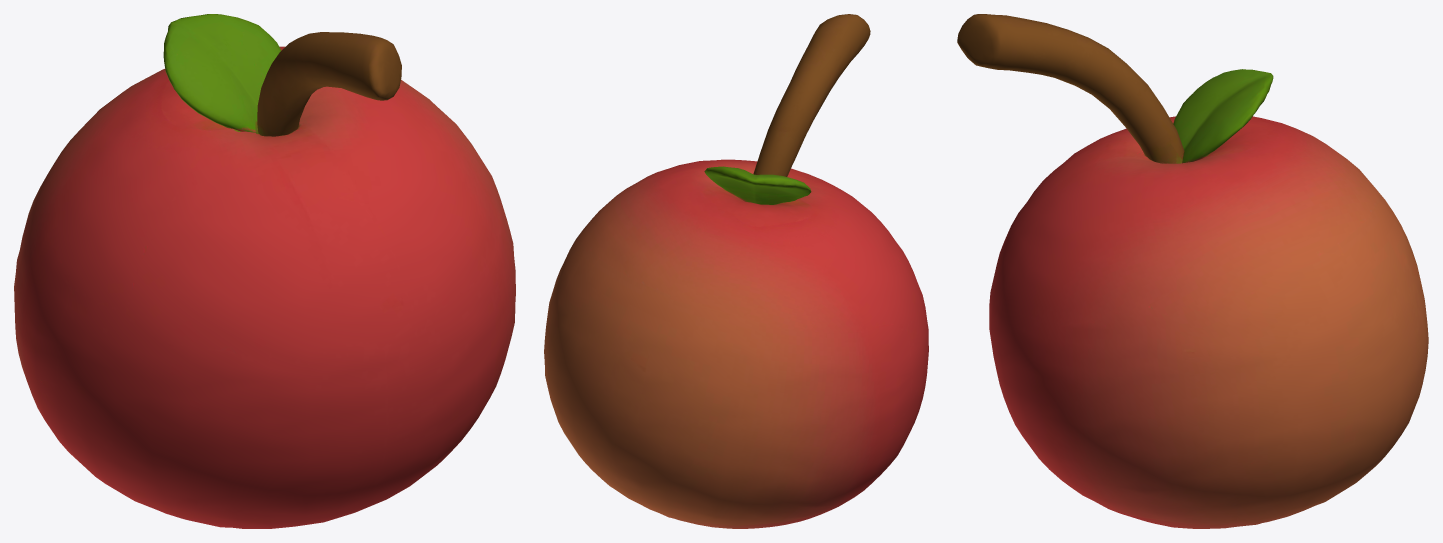
The model's file is boulderberry.glb.
The picture shows the model from 3 angles, left to right: view 1: azimuth 30°, elevation 25°; view 2: azimuth 150°, elevation 25°; view 3: azimuth 270°, elevation 25°; orthographic projection. The views are drawn at different scales.
Parts seen in each view (by area): view 1: Boulderberry; view 2: Boulderberry; view 3: Boulderberry.
Part boxes in pixels (x1,y1,x2,y2): Boulderberry: [14, 14, 515, 528]; Boulderberry: [544, 14, 928, 528]; Boulderberry: [957, 14, 1428, 528].
Bounding box in the file's own units: 0.834 × 0.998 × 0.8887.
Materials: 1 (1 with a texture image).
